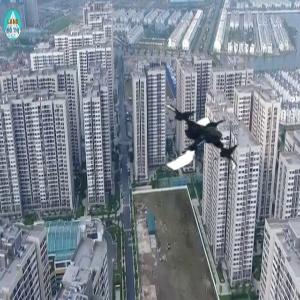drone: (152, 94, 246, 188)
